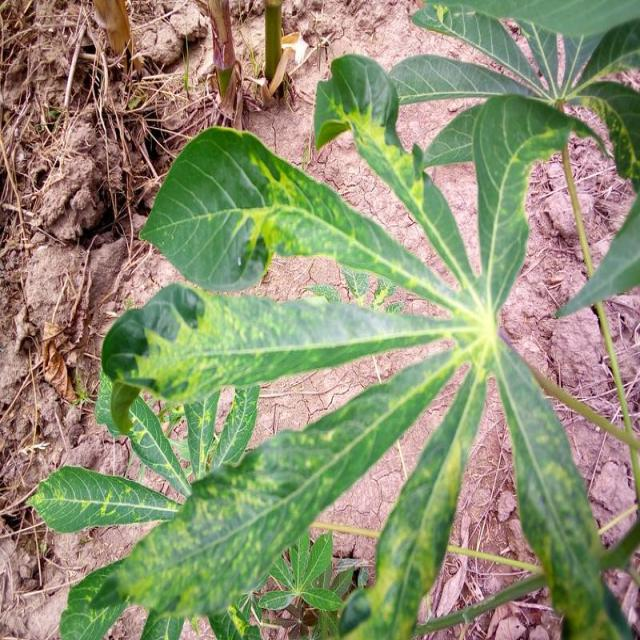cassava leaf: (30, 6, 636, 638), (138, 124, 467, 308)
